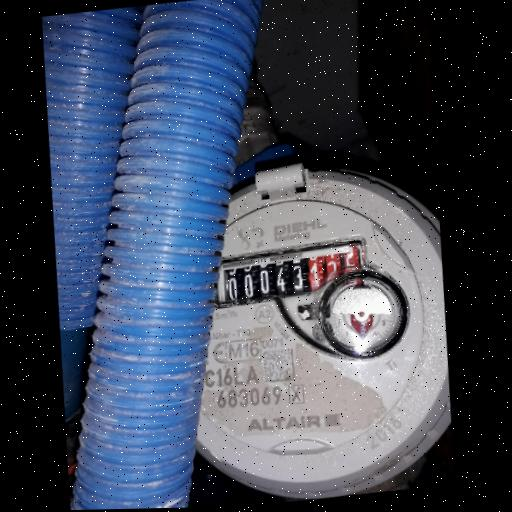0: (221, 268, 243, 302), (238, 266, 260, 299), (255, 263, 277, 296)
1: (306, 255, 330, 293)
2: (325, 251, 349, 283), (343, 243, 363, 273)
3: (289, 257, 312, 294)
4: (272, 260, 294, 295)
border_water_meter_number: (209, 239, 370, 311)
